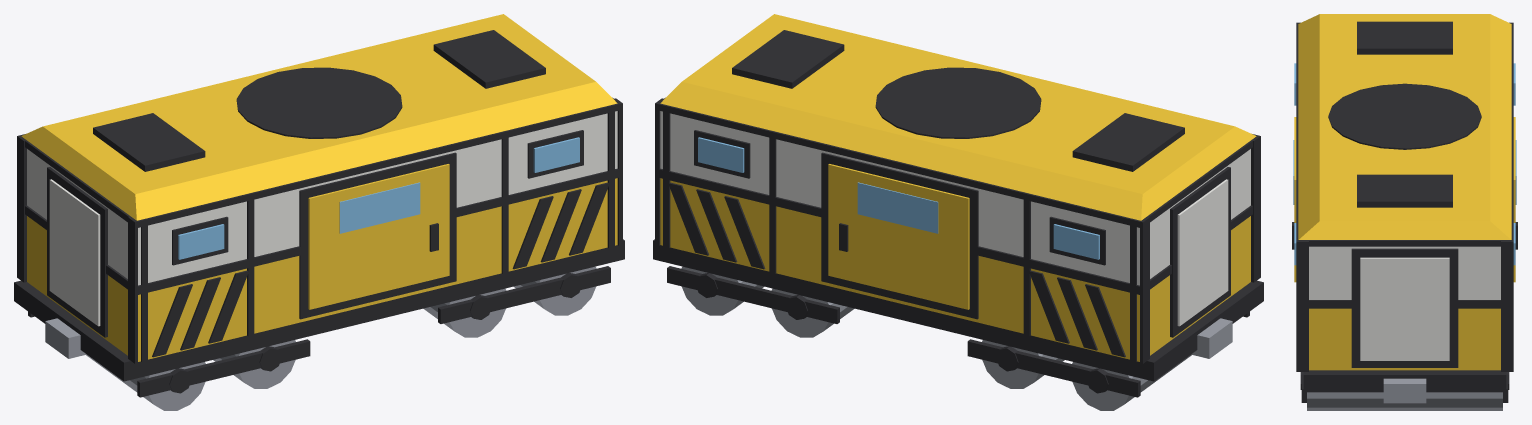
File: Wagon.fbx
3 renders of one model, left to right at view 1: azimuth 30°, elevation 25°; view 2: azimuth 150°, elevation 25°; view 3: azimuth 270°, elevation 25°, orthographic. The views are drawn at different scales.
Parts seen in each view (by area): view 1: Wagon; view 2: Wagon; view 3: Wagon.
Part boxes in pixels (bbox=[...]): Wagon: bbox=[14, 14, 624, 410]; Wagon: bbox=[653, 14, 1263, 410]; Wagon: bbox=[1292, 14, 1517, 410].
Bounding box in the file's own units: 5.24 × 2.16 × 2.12.
